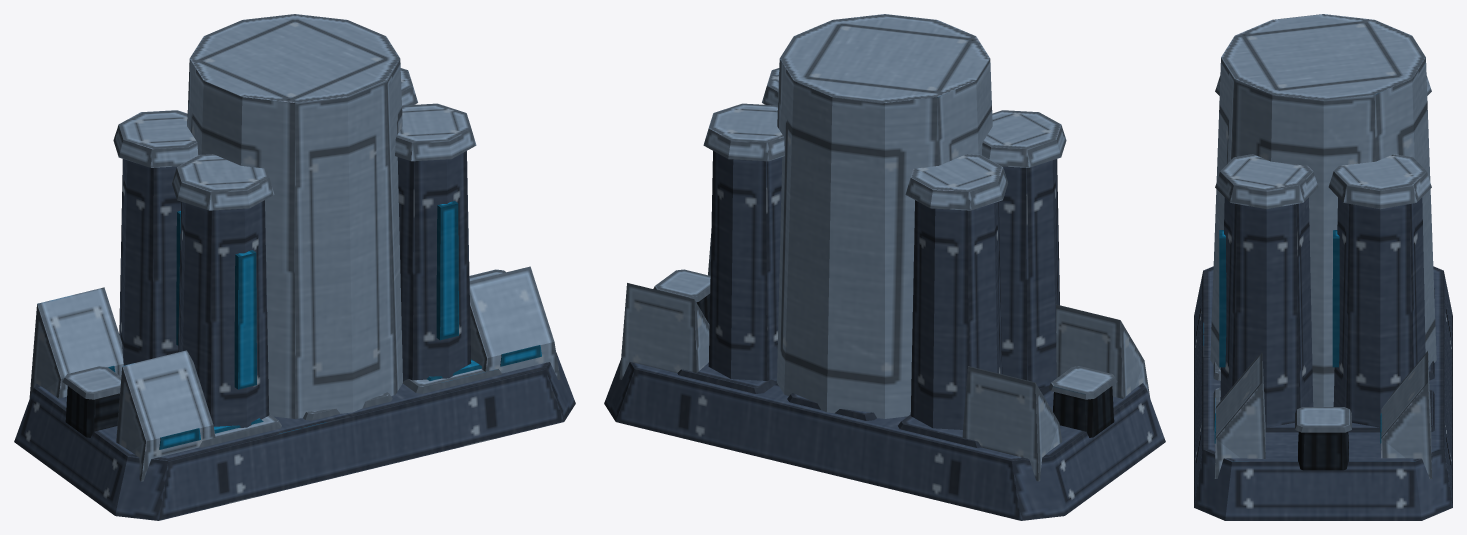
File: building-battery.fbx
The picture shows the model from 3 angles, left to right: view 1: azimuth 30°, elevation 25°; view 2: azimuth 150°, elevation 25°; view 3: azimuth 270°, elevation 25°; orthographic projection. The views are drawn at different scales.
Visible parts, largest first — view 1: building-battery; view 2: building-battery; view 3: building-battery.
Boxes of the visible parts, bbox=[...] form: building-battery: bbox=[14, 14, 575, 520]; building-battery: bbox=[604, 14, 1165, 520]; building-battery: bbox=[1194, 14, 1452, 520].
Size of the model in its own units: 1456 by 1100 by 728.
1 material, 1 textured.
